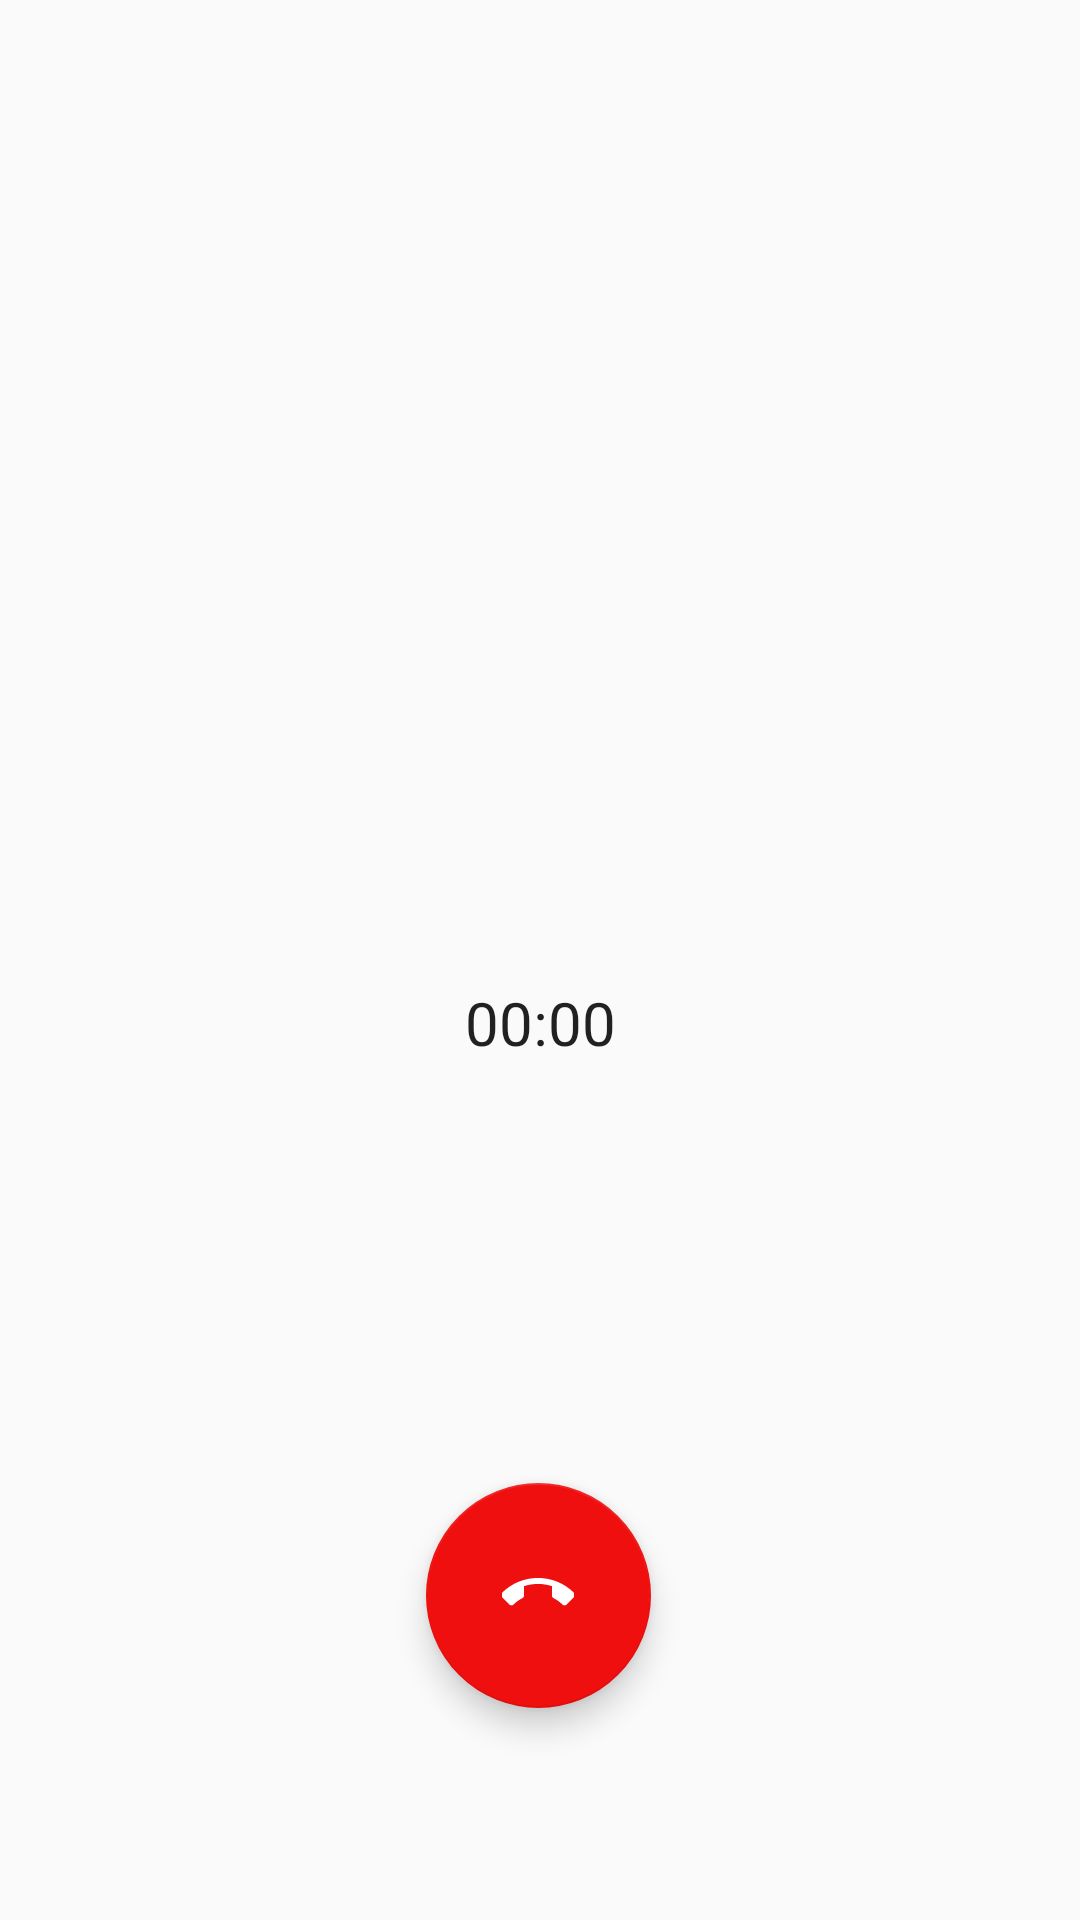

Screen size 1080x1920. Icon name, then its box in pixels as region(x1, y1, x2, y2):
decline call: region(426, 1483, 651, 1708)
